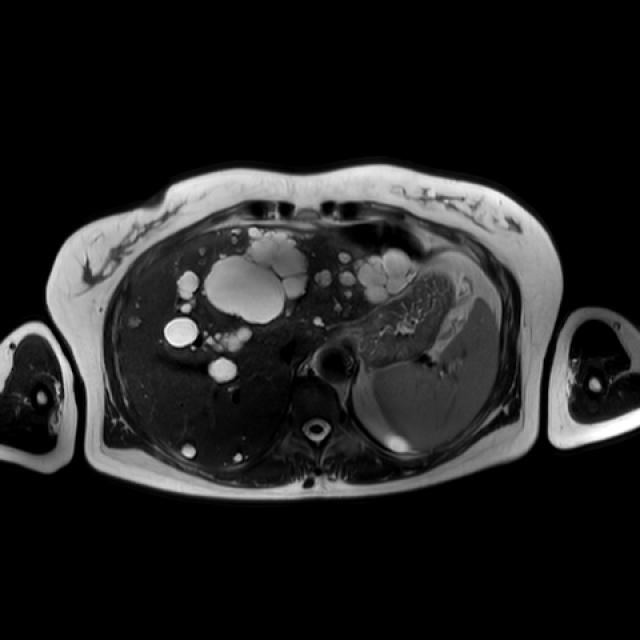sol: (385, 436, 415, 455)
